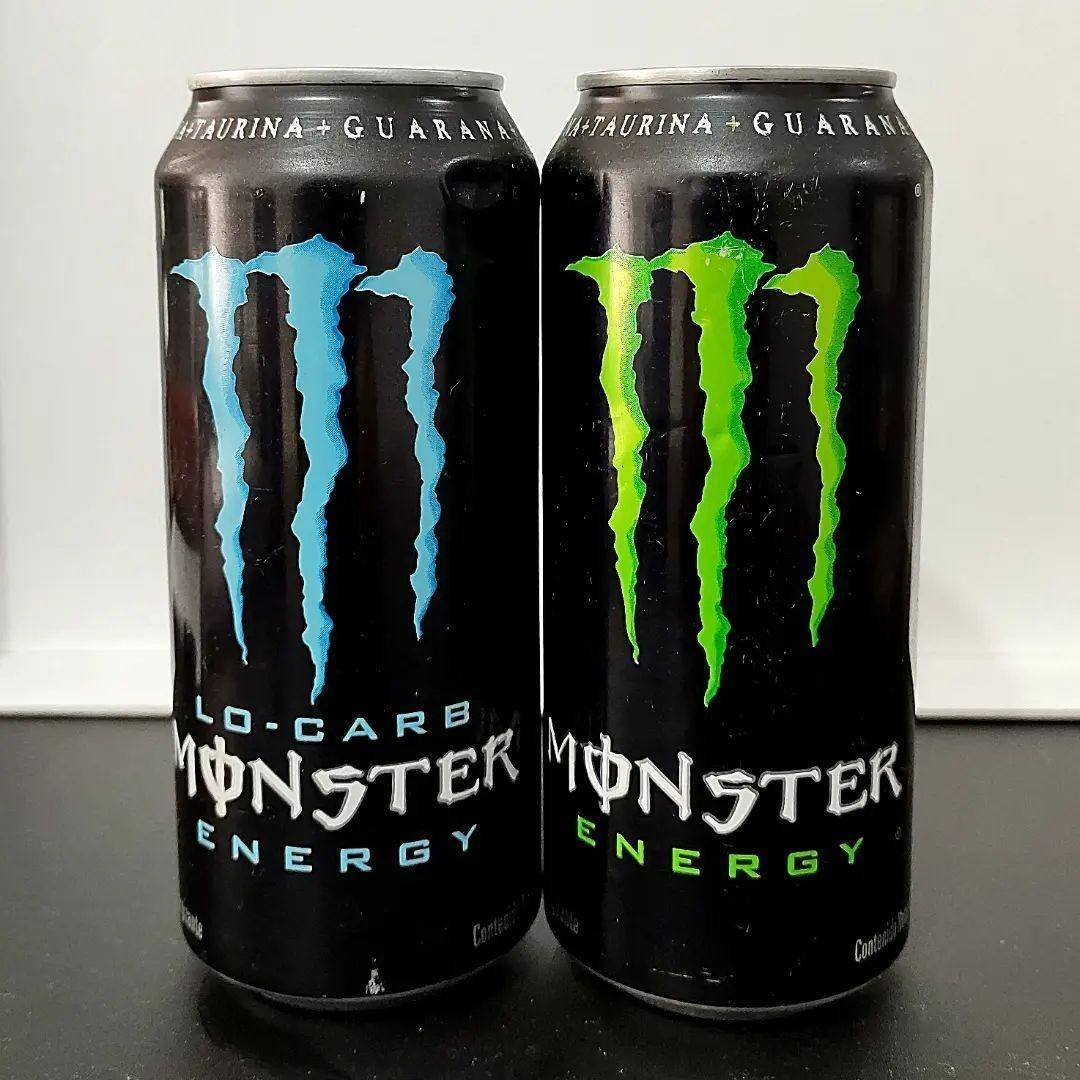tin can: (541, 59, 948, 1025), (141, 59, 545, 1023)
